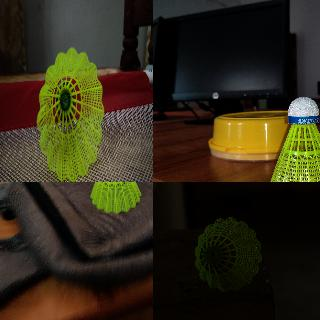shuttlecock: (37, 47, 104, 182), (195, 217, 261, 291), (267, 96, 319, 181), (89, 182, 141, 215)
